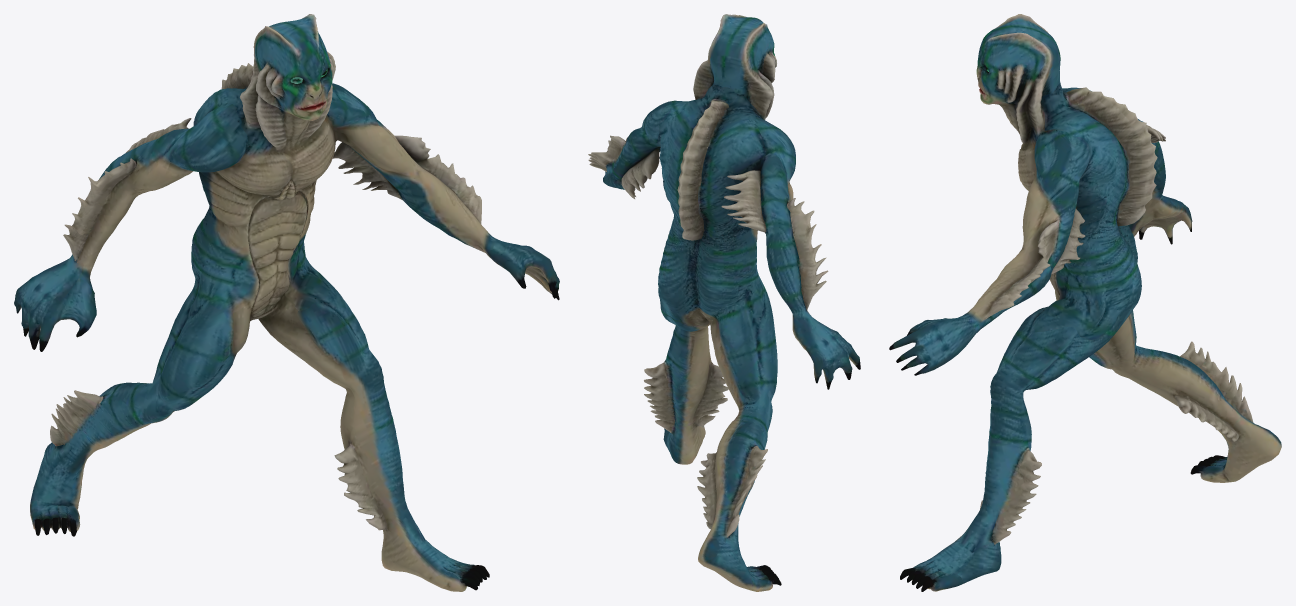
Rendered from MZ4250 - SeaSpawn_2b.glb.
The picture shows the model from 3 angles, left to right: view 1: azimuth 30°, elevation 25°; view 2: azimuth 150°, elevation 25°; view 3: azimuth 270°, elevation 25°; orthographic projection. The views are drawn at different scales.
Visible parts, largest first — view 1: Body.002; view 2: Body.002; view 3: Body.002.
Part boxes in pixels (box(x1,y1,x2,y2)): Body.002: box(14, 14, 559, 591); Body.002: box(588, 14, 860, 591); Body.002: box(889, 14, 1281, 591).
Size of the model in its own units: 76.8 by 101 by 70.27.
1 material, 1 textured.
